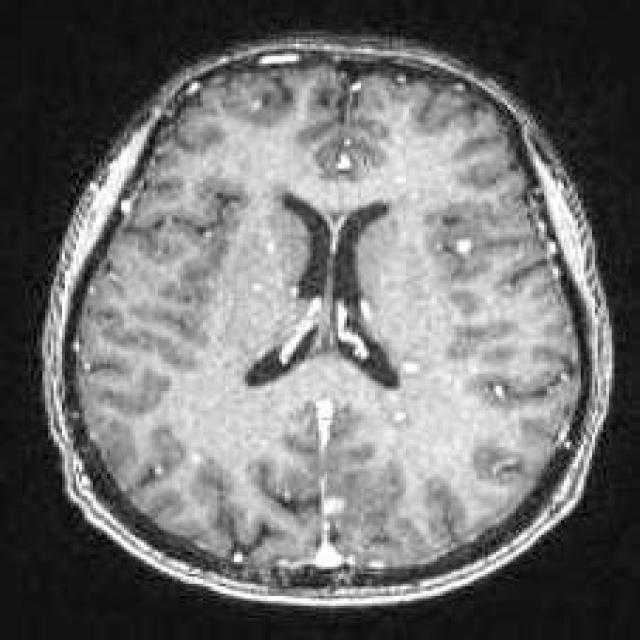notumor: (42, 37, 615, 606)
